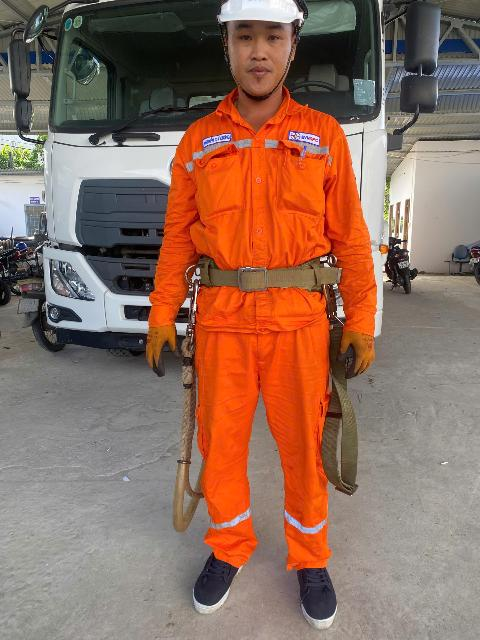gloves: (122, 301, 179, 375), (332, 329, 397, 388)
harness: (154, 231, 355, 305)
helmet: (195, 0, 319, 39)
shoes: (170, 525, 264, 629), (291, 557, 358, 639)
